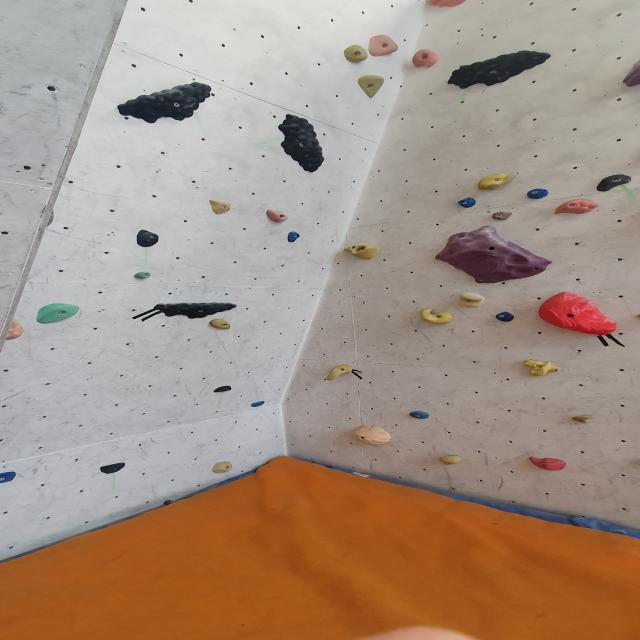Crimp: (36, 301, 88, 325), (203, 198, 235, 215), (132, 230, 162, 248), (488, 310, 523, 324), (523, 187, 554, 202), (99, 462, 130, 476), (455, 198, 486, 210), (438, 454, 464, 466), (569, 414, 596, 425), (489, 211, 518, 221), (408, 410, 431, 421), (284, 232, 304, 243), (212, 386, 234, 394), (248, 399, 267, 408), (133, 271, 150, 280)
Jug: (446, 48, 559, 96), (110, 79, 217, 124), (275, 111, 331, 175), (152, 300, 235, 318), (355, 72, 390, 102), (365, 33, 399, 59), (420, 305, 460, 326), (336, 43, 372, 66), (458, 290, 490, 312), (524, 358, 558, 378), (411, 47, 440, 69)
Pinch: (469, 170, 523, 192), (261, 208, 291, 224), (208, 461, 239, 476), (211, 319, 233, 333)
Pocket: (340, 244, 390, 261)
Sloper: (430, 222, 556, 278), (534, 288, 621, 334), (553, 198, 603, 217), (353, 424, 394, 446), (527, 455, 570, 473), (324, 364, 355, 382)
